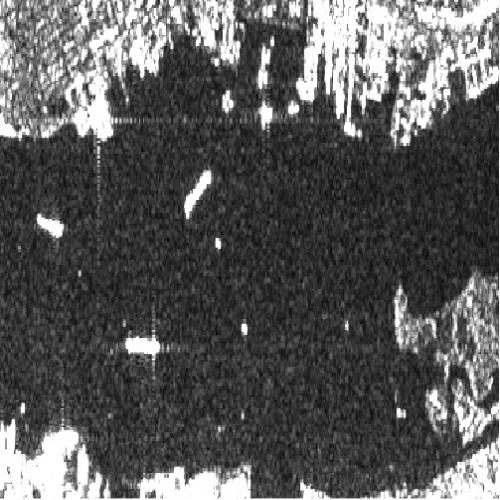ship: (182, 168, 213, 218), (35, 213, 64, 240), (124, 336, 161, 356)
